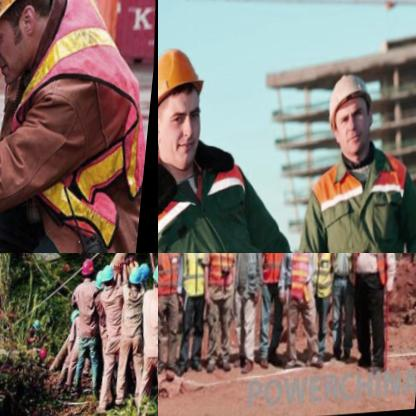helmet: (158, 26, 223, 178), (0, 0, 79, 91), (317, 67, 385, 164), (106, 263, 125, 289), (130, 266, 148, 293), (84, 256, 102, 279), (142, 260, 157, 286), (152, 256, 158, 295)
